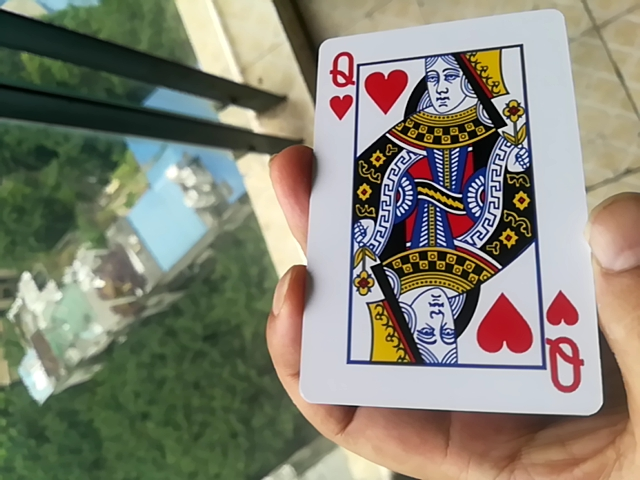hx q: (299, 17, 603, 418)
